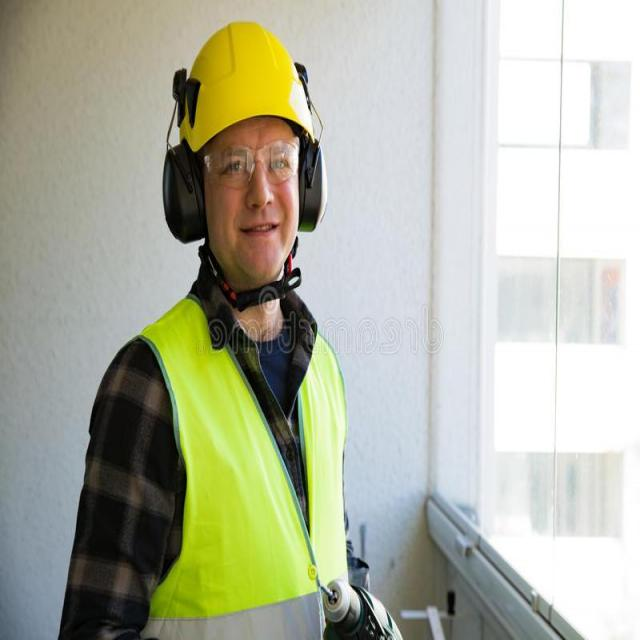Reflective-Jacket: (128, 293, 346, 629)
Safety-Helmet: (174, 18, 324, 161)
